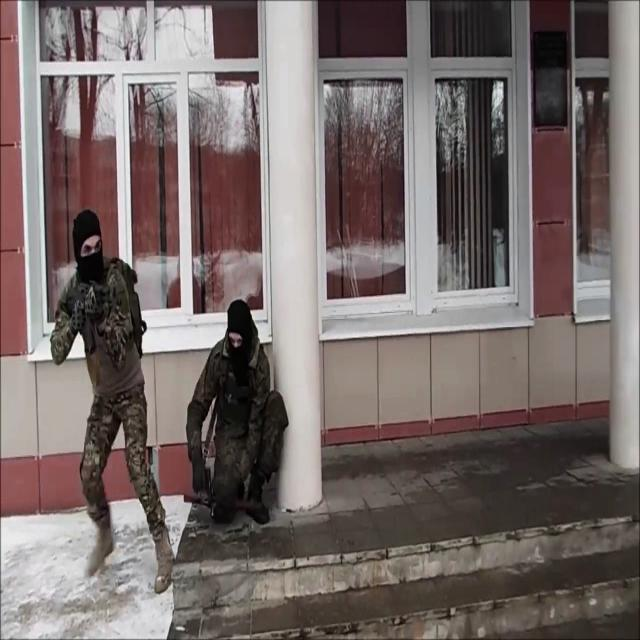gun: (50, 209, 176, 595), (185, 300, 288, 526), (65, 279, 122, 356), (191, 465, 213, 510)
